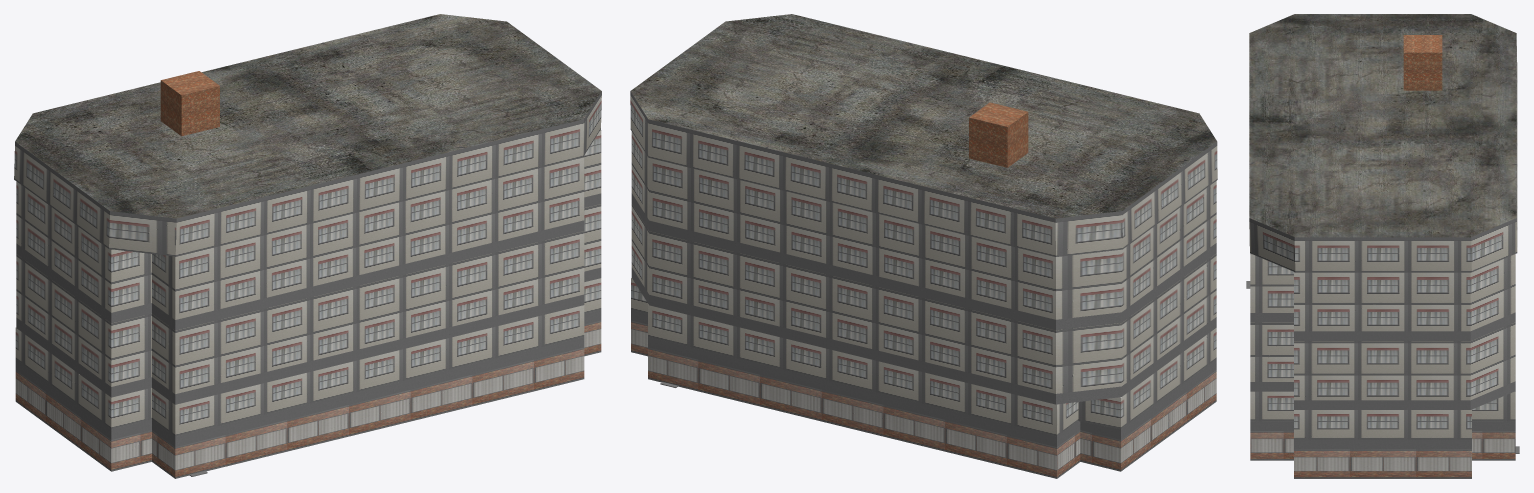
The model's file is LOD01_Building_7stores_LargeHouse.obj.
The picture shows the model from 3 angles, left to right: view 1: azimuth 30°, elevation 25°; view 2: azimuth 150°, elevation 25°; view 3: azimuth 270°, elevation 25°; orthographic projection. The views are drawn at different scales.
Parts seen in each view (by area): view 1: LOD01_Building_7stores_LargeHouse; view 2: LOD01_Building_7stores_LargeHouse; view 3: LOD01_Building_7stores_LargeHouse.
Part boxes in pixels (x1=…): LOD01_Building_7stores_LargeHouse: x1=14, y1=14, x2=601, y2=478; LOD01_Building_7stores_LargeHouse: x1=630, y1=14, x2=1217, y2=478; LOD01_Building_7stores_LargeHouse: x1=1246, y1=14, x2=1519, y2=478.
Size of the model in its own units: 15.96 by 9.34 by 8.26.
